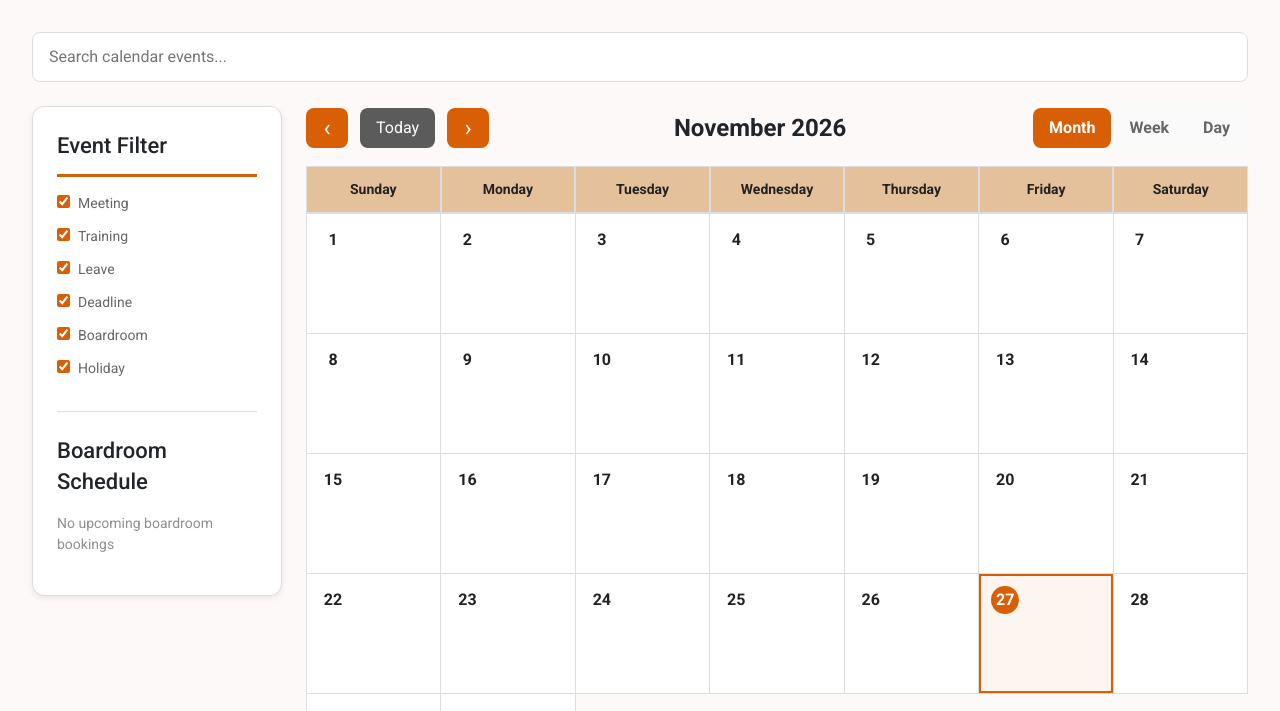
it: Calendar - day events modal › lists an event on the day it falls on, including its boardroom location, and flags today
The width and height of the screenshot is (1280, 711).
Click the element with class "date-number".
click(1046, 634)  # box [979,574,1114,694]
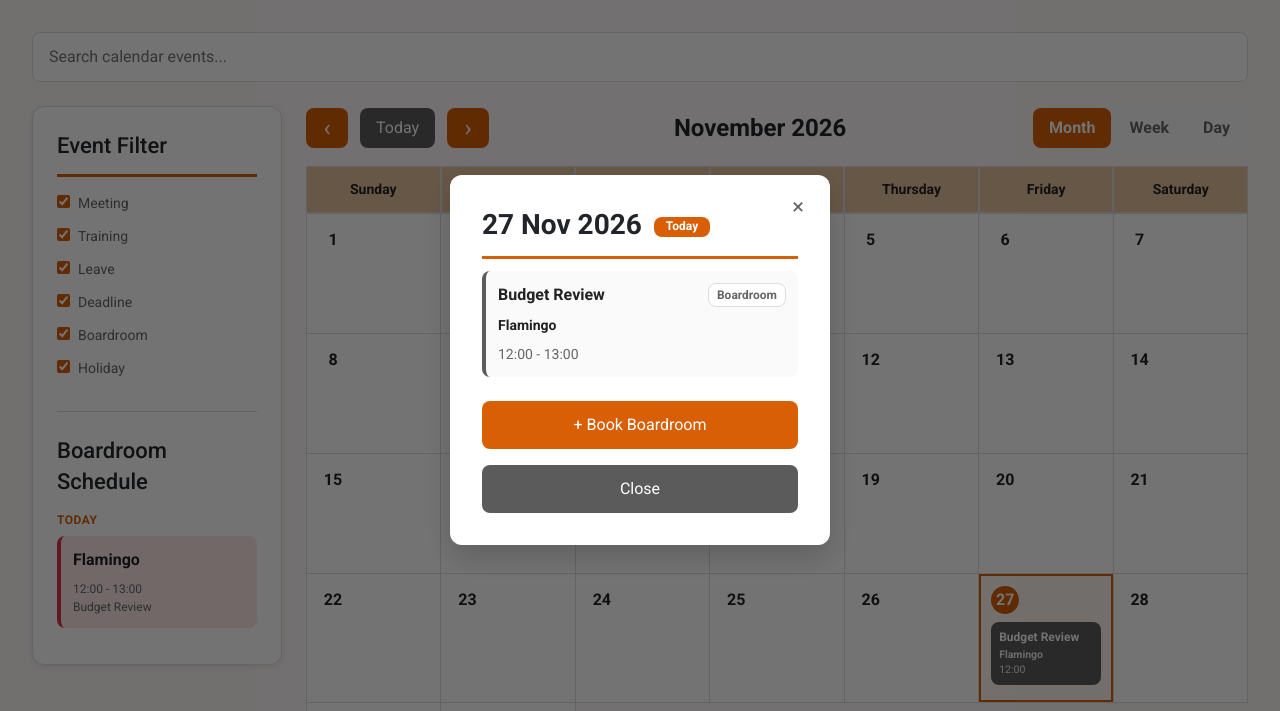
Expected: the text "Budget Review" is shown, [498,283,605,307]
Expected: the text "Flamingo" is shown, [498,317,556,333]
Expected: the text "Today" is shown, [654,217,710,237]
